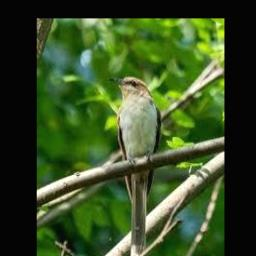Cuckoo: (108, 77, 161, 256)
